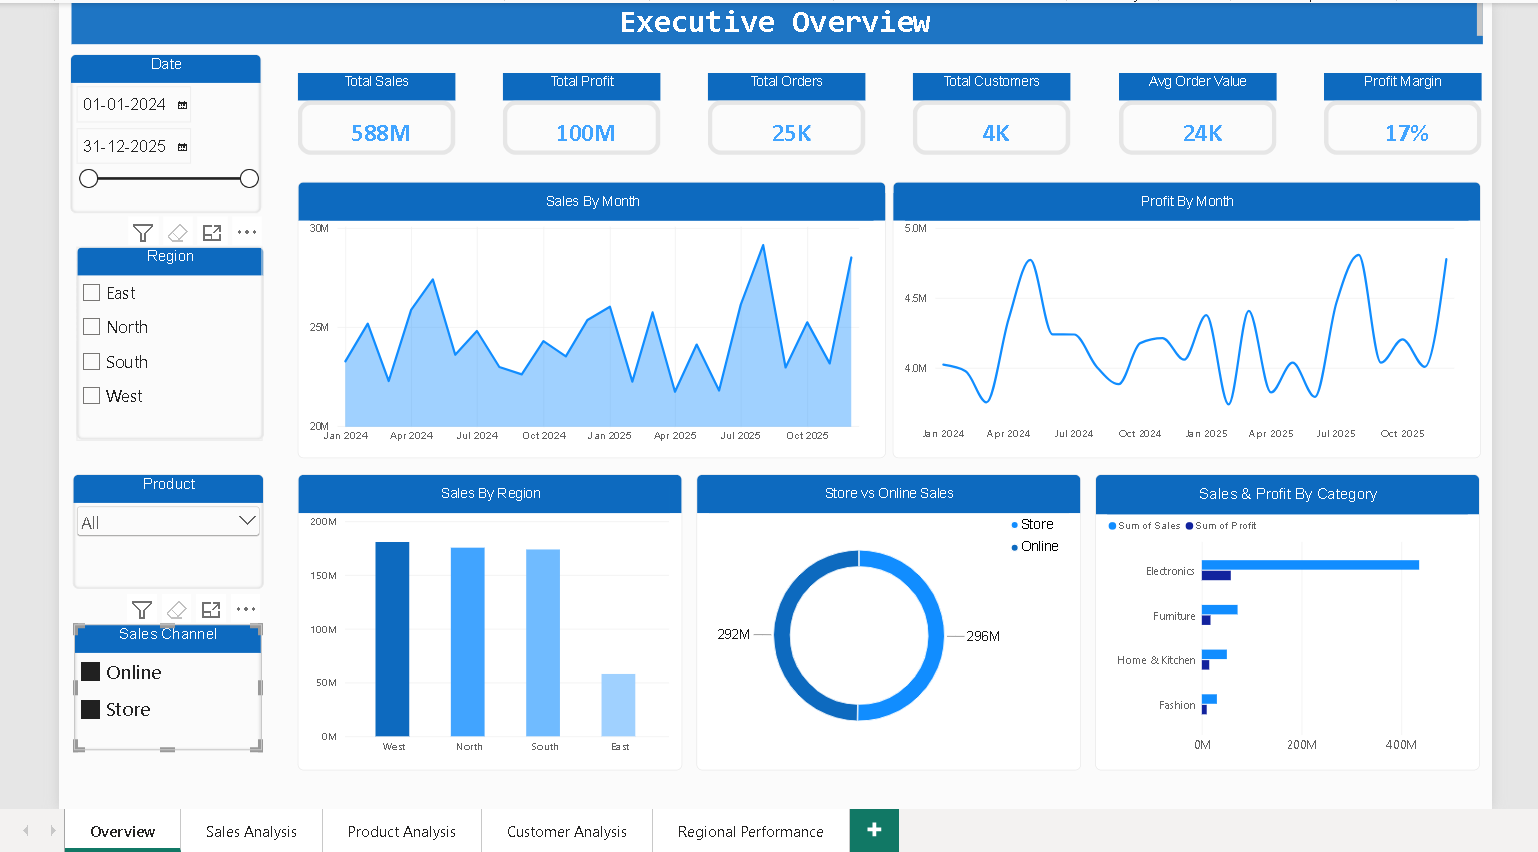

The page's visual inventory and layout, read from the dashboard file:
{"tool":"powerbi","page":{"name":"Overview","canvas":[1920,1080],"ordinal":0},"visuals":[{"type":"textbox","box":[16.7,0,1891,55.3],"z":0},{"type":"slicer","title":"Date","fields":{"Values":["Date.Date"]},"box":[15.7,68,256.4,212.8],"z":1000},{"type":"cardVisual","title":"Total Sales","fields":{"Data":["Sales_Data.Total Sales"]},"box":[319.9,93.8,211.4,110.4],"z":1000,"group":"g1"},{"type":"cardVisual","title":"Total Profit","fields":{"Data":["Sales_Data.Total Profit"]},"box":[594.9,93.8,211.4,110.5],"z":2000,"group":"g1"},{"type":"slicer","title":"Region","fields":{"Values":["Sales_Data.Region"]},"box":[22.7,327.3,251.2,258.1],"z":2000},{"type":"cardVisual","title":"Avg Order Value","fields":{"Data":["Sales_Data.Average Order Value"]},"box":[1419.7,93.8,211.4,110.5],"z":3000,"group":"g1"},{"type":"slicer","title":"Product","fields":{"Values":["Sales_Data.Product_Name"]},"box":[19.2,632,256.4,153.5],"z":3000},{"type":"cardVisual","title":"Total Orders","fields":{"Data":["Sales_Data.Total Orders"]},"box":[869.8,93.8,211.4,110.5],"z":4000,"group":"g1"},{"type":"stackedAreaChart","title":"Sales By Month","fields":{"Category":["Date.Year_Month"],"Y":["Sum(Sales_Data.Sales)"]},"box":[319.9,239.5,788,370.2],"z":4000,"group":"g3"},{"type":"slicer","title":"Sales Channel","fields":{"Values":["Sales_Data.Sales_Channel"]},"box":[20.9,832,251.2,169.2],"z":4000},{"type":"group","id":"g1","title":"Group 1","box":[319.9,93.8,1584.5,110.5],"z":5000},{"type":"cardVisual","title":"Total Customers","fields":{"Data":["Sales_Data.Total Customers"]},"box":[1144.8,93.8,211.4,110.5],"z":5000,"group":"g1"},{"type":"lineChart","title":" Profit  By Month","fields":{"Category":["Date.Year_Month"],"Y":["Sum(Sales_Data.Profit)"]},"box":[1116.4,239.5,788,370.2],"z":5000,"group":"g3"},{"type":"donutChart","title":"Store vs Online Sales","fields":{"Category":["Sales_Data.Sales_Channel"],"Y":["Sum(Sales_Data.Sales)"]},"box":[854.6,631.5,515.1,397],"z":5000,"group":"g2"},{"type":"cardVisual","title":"Profit Margin","fields":{"Data":["Sales_Data.Profit Margin"]},"box":[1694.7,93.8,211.4,110.5],"z":6000,"group":"g1"},{"type":"group","id":"g2","title":"Group 2","box":[319.9,631.5,1584.5,397],"z":6000},{"type":"group","id":"g3","title":"Group 3","box":[319.9,239.5,1584.5,370.2],"z":7000},{"type":"columnChart","title":"Sales By Region","fields":{"Category":["Sales_Data.Region"],"Y":["Sum(Sales_Data.Sales)"]},"box":[319.9,631.5,515.1,397],"z":8000,"group":"g2"},{"type":"clusteredBarChart","title":" Sales & Profit By Category","fields":{"Category":["Sales_Data.Category"],"Y":["Sum(Sales_Data.Sales)","Sum(Sales_Data.Profit)"]},"box":[1389.3,631.5,515.1,397],"z":9000,"group":"g2"}]}

Visuals, with their boxes on the page's 1920x1080 design canvas (x1, y1, x2, y2). These are canvas units, not pixel positions in the 1538x852 screenshot, which may show the page scaled, cropped or inside an application window:
textbox: [17, 0, 1908, 55]
"Date" slicer: [16, 68, 272, 281]
"Total Sales" cardVisual: [320, 94, 531, 204]
"Total Profit" cardVisual: [595, 94, 806, 204]
"Region" slicer: [23, 327, 274, 585]
"Avg Order Value" cardVisual: [1420, 94, 1631, 204]
"Product" slicer: [19, 632, 276, 786]
"Total Orders" cardVisual: [870, 94, 1081, 204]
"Sales By Month" stackedAreaChart: [320, 240, 1108, 610]
"Sales Channel" slicer: [21, 832, 272, 1001]
"Group 1" group: [320, 94, 1904, 204]
"Total Customers" cardVisual: [1145, 94, 1356, 204]
" Profit  By Month" lineChart: [1116, 240, 1904, 610]
"Store vs Online Sales" donutChart: [855, 632, 1370, 1028]
"Profit Margin" cardVisual: [1695, 94, 1906, 204]
"Group 2" group: [320, 632, 1904, 1028]
"Group 3" group: [320, 240, 1904, 610]
"Sales By Region" columnChart: [320, 632, 835, 1028]
" Sales & Profit By Category" clusteredBarChart: [1389, 632, 1904, 1028]
